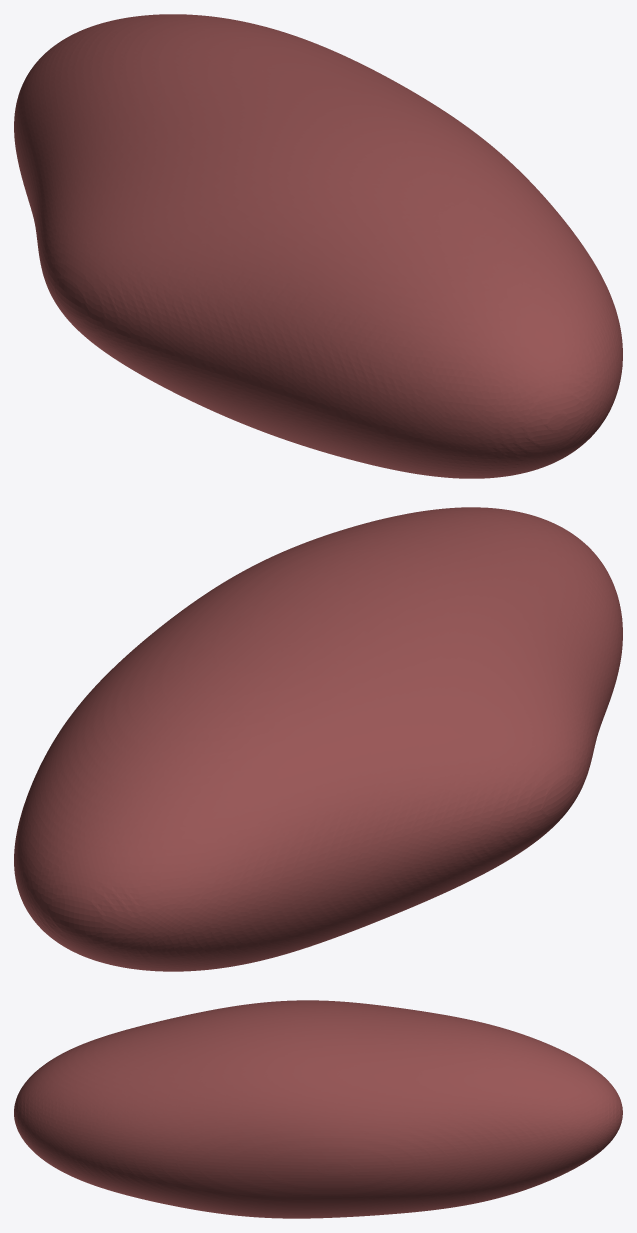
File: renal_capsule.glb
3 renders of one model, top to bottom at view 1: azimuth 30°, elevation 25°; view 2: azimuth 150°, elevation 25°; view 3: azimuth 270°, elevation 25°, orthographic. The views are drawn at different scales.
Parts seen in each view (by area): view 1: geometry_0; view 2: geometry_0; view 3: geometry_0.
Boxes of the visible parts, x1,y1,x2,y2 form: geometry_0: [14, 14, 622, 478]; geometry_0: [14, 507, 622, 971]; geometry_0: [14, 1000, 622, 1218].
Size of the model in its own units: 45.62 by 28.88 by 88.79.
